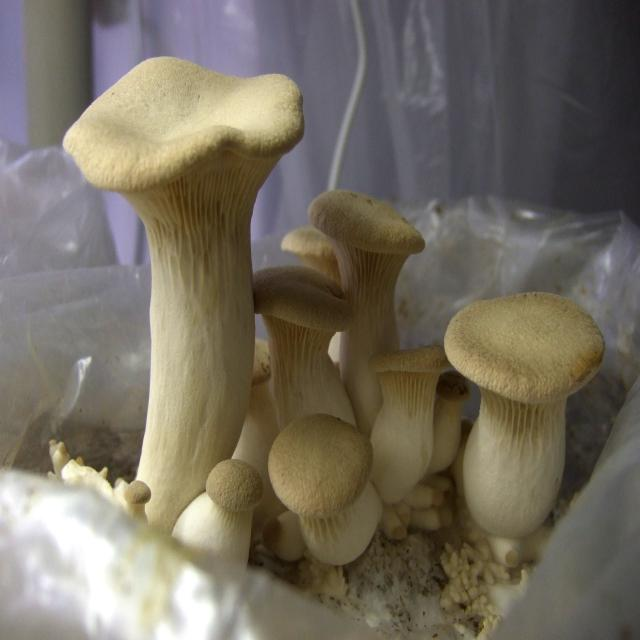Pleurotus eryngii: (66, 56, 303, 521), (312, 185, 450, 498), (445, 294, 604, 530), (253, 262, 380, 554)
